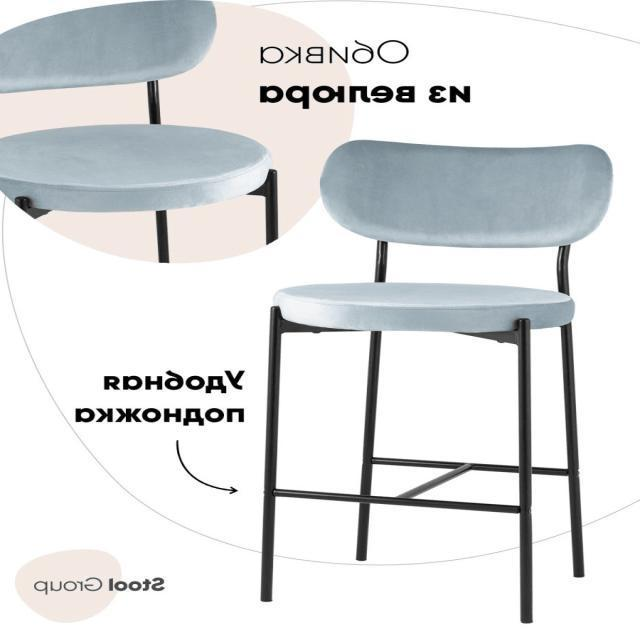chair: (255, 131, 613, 628), (281, 139, 613, 337), (0, 0, 265, 201)
